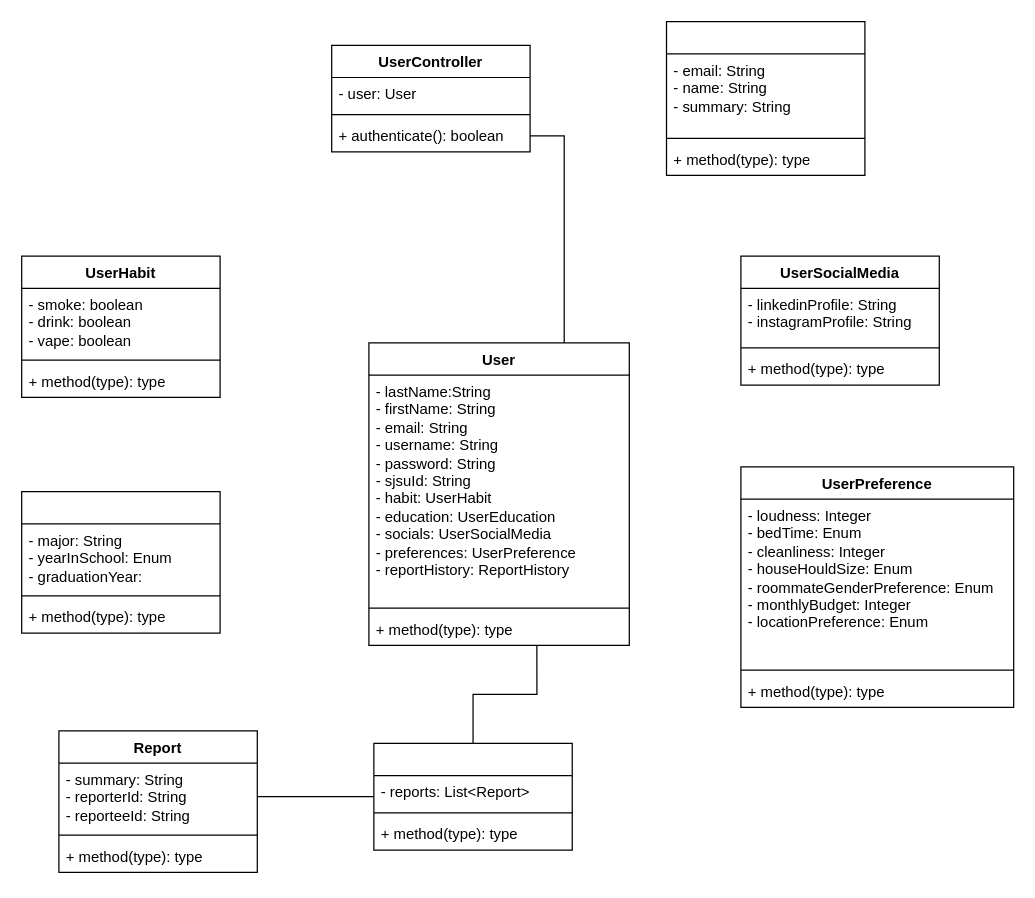
Image size: 1035x898. Some labels were removed from this diagram. The shapes that lost their labels are listed below. From the top down, each one's box as (x1, y1, x2, y2) in pixels, then its label:
(665, 20, 865, 175): Feedback
(20, 490, 220, 633): UserEducation
(373, 742, 572, 850): ReportHistory
